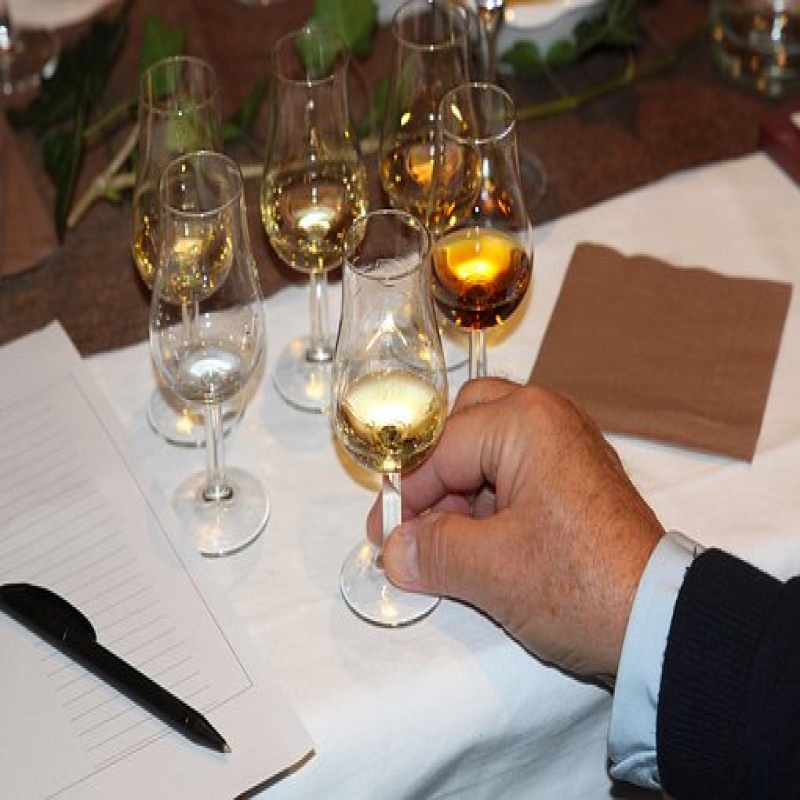whiskey: (336, 210, 448, 478), (430, 98, 533, 344), (267, 36, 364, 270)
